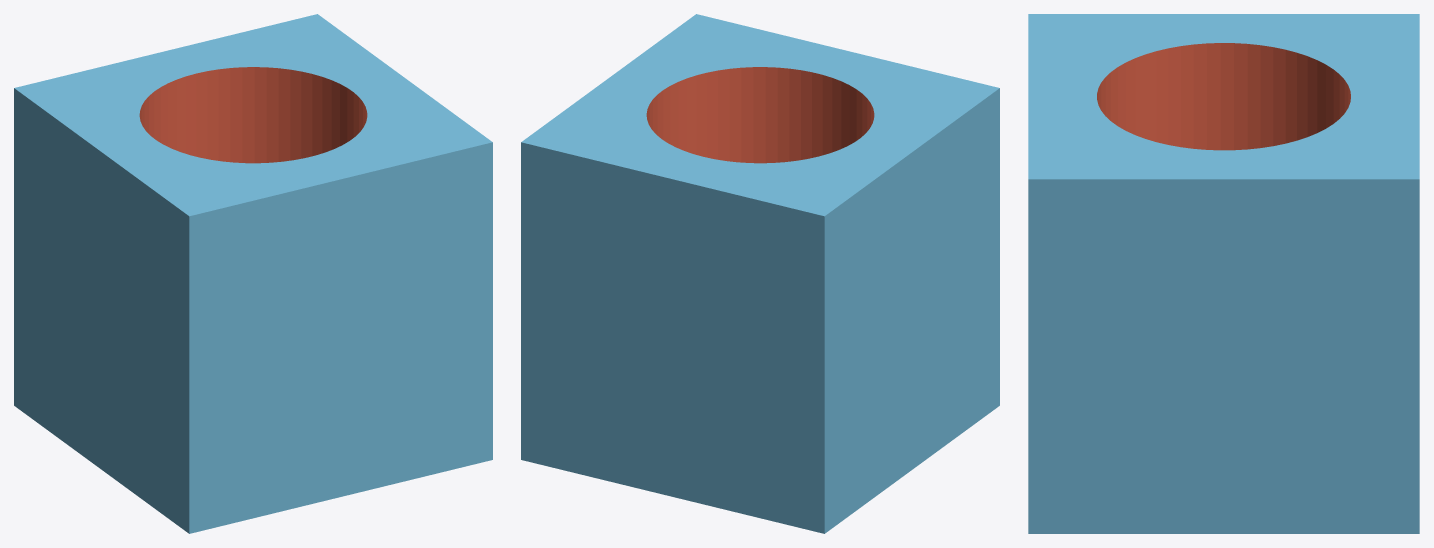
3 views of the same model, side by side, from view 1: azimuth 30°, elevation 25°; view 2: azimuth 150°, elevation 25°; view 3: azimuth 270°, elevation 25° (orthographic). The views are drawn at different scales.
Parts seen in each view (by area): view 1: Cube; view 2: Cube; view 3: Cube.
Boxes of the visible parts, x1,y1,x2,y2 form: Cube: [14, 14, 492, 533]; Cube: [521, 14, 999, 533]; Cube: [1028, 14, 1419, 533].
Size of the model in its own units: 200 by 200 by 200.
